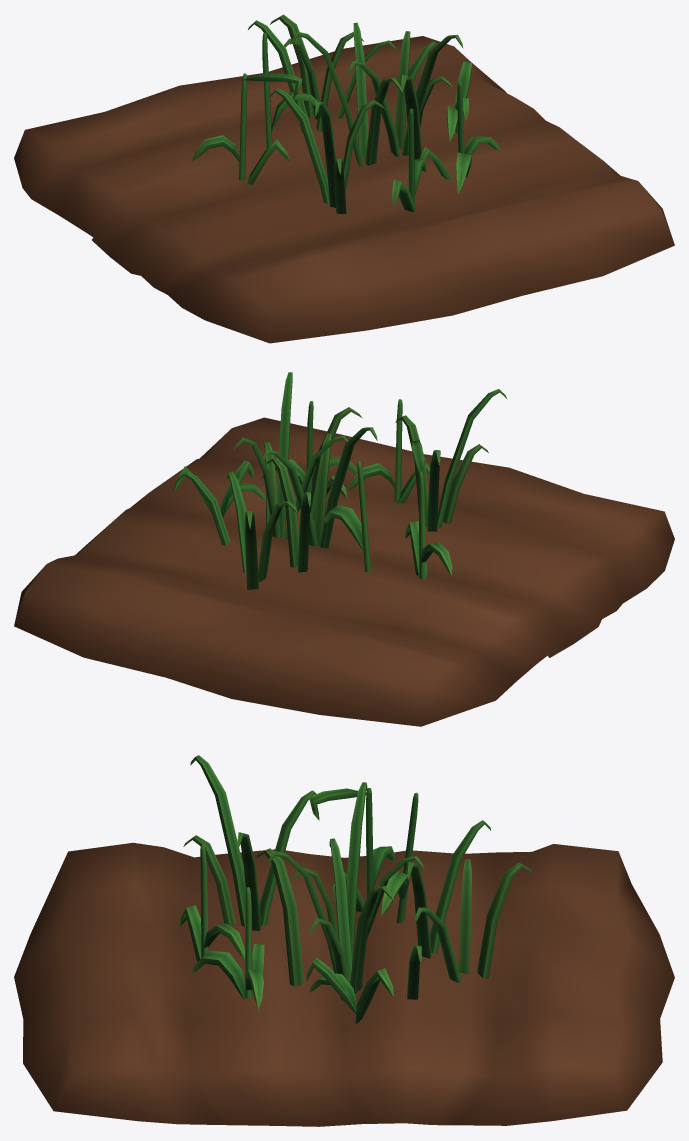
The model's file is SM_PlantSoil_Rice_Lv1.fbx.
3 views of the same model, one above another, from view 1: azimuth 30°, elevation 25°; view 2: azimuth 150°, elevation 25°; view 3: azimuth 270°, elevation 25° (orthographic). The views are drawn at different scales.
Visible parts, largest first — view 1: SM_PlantSoil_Rice_Lv1; view 2: SM_PlantSoil_Rice_Lv1; view 3: SM_PlantSoil_Rice_Lv1.
Boxes of the visible parts, x1,y1,x2,y2 form: SM_PlantSoil_Rice_Lv1: [14, 14, 674, 343]; SM_PlantSoil_Rice_Lv1: [14, 372, 674, 726]; SM_PlantSoil_Rice_Lv1: [14, 755, 674, 1126].
Size of the model in its own units: 96.14 by 34.75 by 103.
